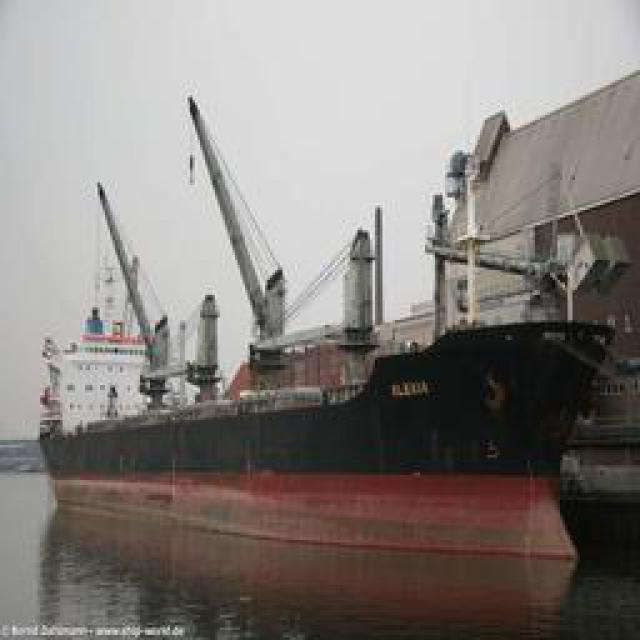Ship: (19, 87, 623, 573)
